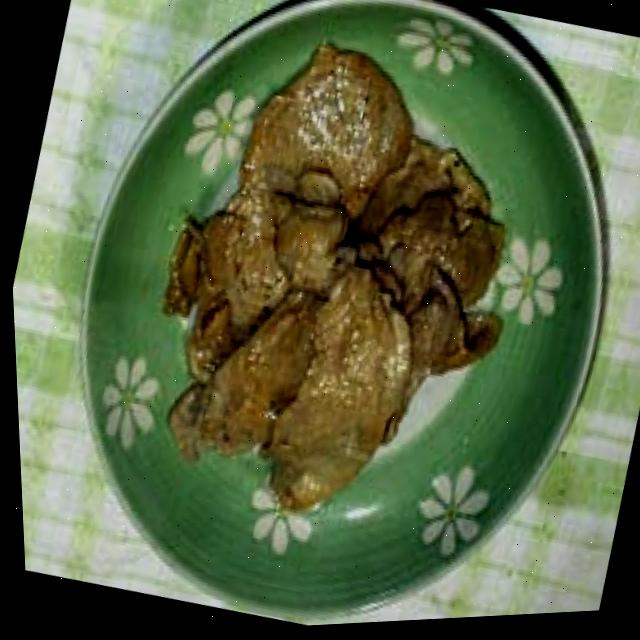猪肉菜式: (70, 5, 565, 591)
